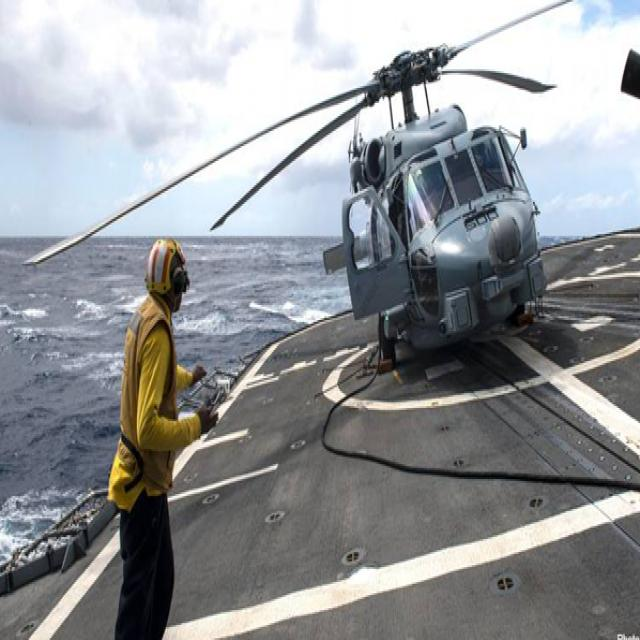helicopter: (24, 1, 640, 422)
